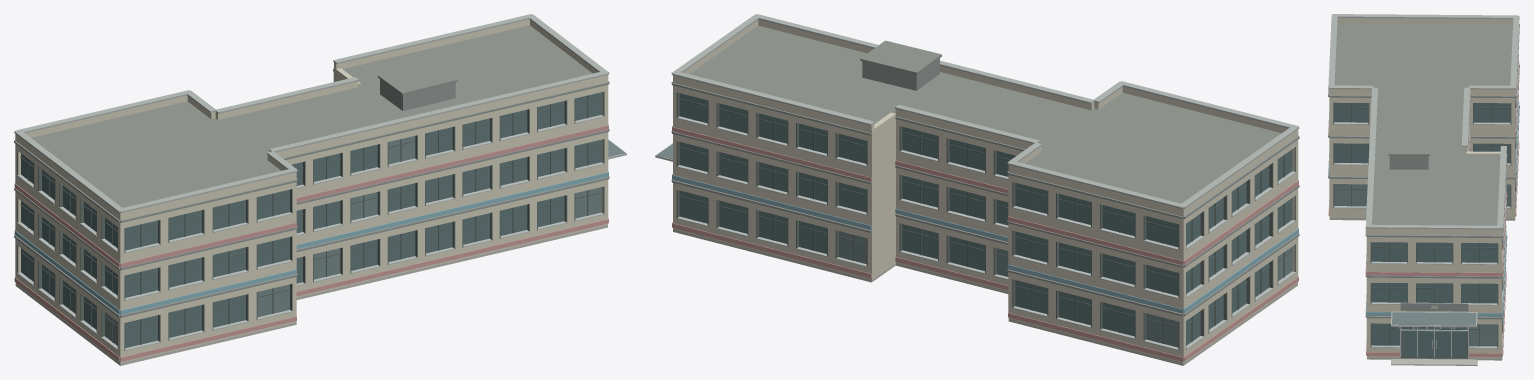
Rendered from mapped_1135310360.glb.
3 renders of one model, left to right at view 1: azimuth 30°, elevation 25°; view 2: azimuth 150°, elevation 25°; view 3: azimuth 270°, elevation 25°, orthographic. The views are drawn at different scales.
Parts seen in each view (by area): view 1: mapped_1135310360_KindergartenPale, mapped_1135310360_FacultyRoof, mapped_1135310360_WindowGlass, mapped_1135310360_Teaching5TileJoint, mapped_1135310360_FacultyDarkPanel, mapped_1135310360_WindowReveal, mapped_1135310360_KindergartenRose, mapped_1135310360_WindowAluminium, mapped_1135310360_WindowGlassLight, mapped_1135310360_WindowRubber, mapped_1135310360_KindergartenBlue, mapped_1135310360_EntryStone; view 2: mapped_1135310360_KindergartenPale, mapped_1135310360_FacultyRoof, mapped_1135310360_WindowGlass, mapped_1135310360_Teaching5TileJoint, mapped_1135310360_FacultyDarkPanel, mapped_1135310360_WindowReveal, mapped_1135310360_KindergartenRose, mapped_1135310360_WindowAluminium, mapped_1135310360_WindowRubber, mapped_1135310360_KindergartenBlue, mapped_1135310360_WindowGlassLight, mapped_1135310360_EntryStone; view 3: mapped_1135310360_FacultyRoof, mapped_1135310360_KindergartenPale, mapped_1135310360_WindowGlass, mapped_1135310360_Teaching5TileJoint, mapped_1135310360_FacultyDarkPanel, mapped_1135310360_WindowGlassLight, mapped_1135310360_WindowAluminium, mapped_1135310360_KindergartenRose, mapped_1135310360_WindowReveal, mapped_1135310360_EntryStone, mapped_1135310360_WindowRubber, mapped_1135310360_KindergartenBlue.
Part boxes in pixels (x1,y1,x2,y2): mapped_1135310360_KindergartenPale: [15, 19, 608, 363]; mapped_1135310360_FacultyRoof: [31, 25, 592, 207]; mapped_1135310360_WindowGlass: [21, 92, 601, 347]; mapped_1135310360_Teaching5TileJoint: [14, 14, 609, 213]; mapped_1135310360_FacultyDarkPanel: [14, 69, 609, 317]; mapped_1135310360_WindowReveal: [17, 91, 604, 350]; mapped_1135310360_KindergartenRose: [14, 124, 608, 361]; mapped_1135310360_WindowAluminium: [17, 115, 626, 350]; mapped_1135310360_WindowGlassLight: [105, 136, 624, 345]; mapped_1135310360_WindowRubber: [20, 95, 601, 344]; mapped_1135310360_KindergartenBlue: [14, 171, 608, 314]; mapped_1135310360_EntryStone: [15, 225, 607, 365]; mapped_1135310360_KindergartenPale: [673, 19, 1298, 363]; mapped_1135310360_FacultyRoof: [689, 25, 1281, 203]; mapped_1135310360_WindowGlass: [679, 93, 1292, 345]; mapped_1135310360_Teaching5TileJoint: [671, 14, 1299, 208]; mapped_1135310360_FacultyDarkPanel: [671, 58, 1299, 316]; mapped_1135310360_WindowReveal: [676, 92, 1295, 350]; mapped_1135310360_KindergartenRose: [672, 126, 1298, 361]; mapped_1135310360_WindowAluminium: [655, 116, 1296, 350]; mapped_1135310360_WindowRubber: [679, 97, 1292, 343]; mapped_1135310360_KindergartenBlue: [672, 174, 1298, 313]; mapped_1135310360_WindowGlassLight: [657, 144, 1292, 347]; mapped_1135310360_EntryStone: [673, 229, 1297, 365]; mapped_1135310360_FacultyRoof: [1334, 23, 1512, 225]; mapped_1135310360_KindergartenPale: [1329, 18, 1518, 358]; mapped_1135310360_WindowGlass: [1334, 102, 1510, 356]; mapped_1135310360_Teaching5TileJoint: [1328, 14, 1519, 229]; mapped_1135310360_FacultyDarkPanel: [1328, 24, 1519, 319]; mapped_1135310360_WindowGlassLight: [1334, 184, 1510, 346]; mapped_1135310360_WindowAluminium: [1329, 54, 1518, 357]; mapped_1135310360_KindergartenRose: [1328, 61, 1519, 356]; mapped_1135310360_WindowReveal: [1333, 98, 1516, 358]; mapped_1135310360_EntryStone: [1329, 218, 1515, 365]; mapped_1135310360_WindowRubber: [1334, 103, 1510, 346]; mapped_1135310360_KindergartenBlue: [1328, 101, 1519, 316].
Bounding box in the file's own units: 41.21 × 12.48 × 14.69.
